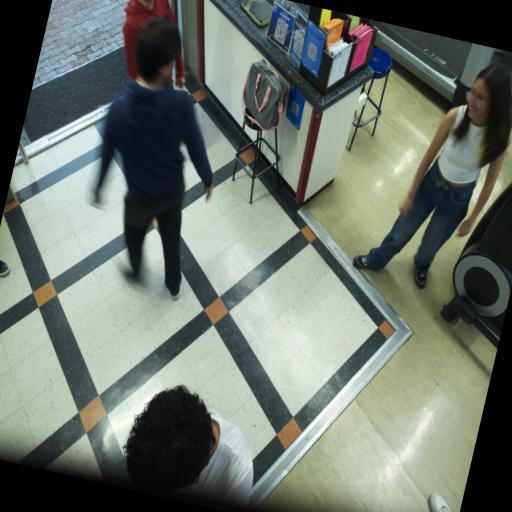person: (353, 65, 511, 288), (96, 19, 213, 299), (124, 386, 253, 506), (123, 0, 174, 79), (430, 493, 451, 511), (0, 259, 10, 277)
